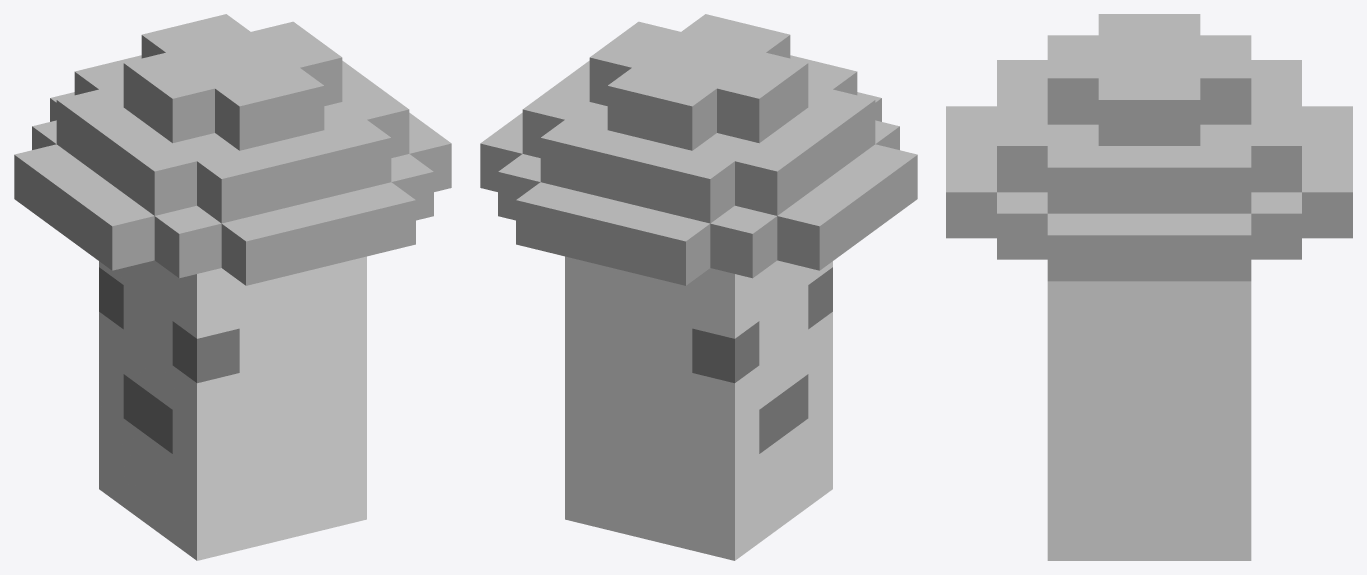
Rendered from mushrrom2.obj.
The picture shows the model from 3 angles, left to right: view 1: azimuth 30°, elevation 25°; view 2: azimuth 150°, elevation 25°; view 3: azimuth 270°, elevation 25°; orthographic projection. The views are drawn at different scales.
Bounding box in the file's own units: 0.8 × 1 × 0.8.
1 material, 1 textured.
